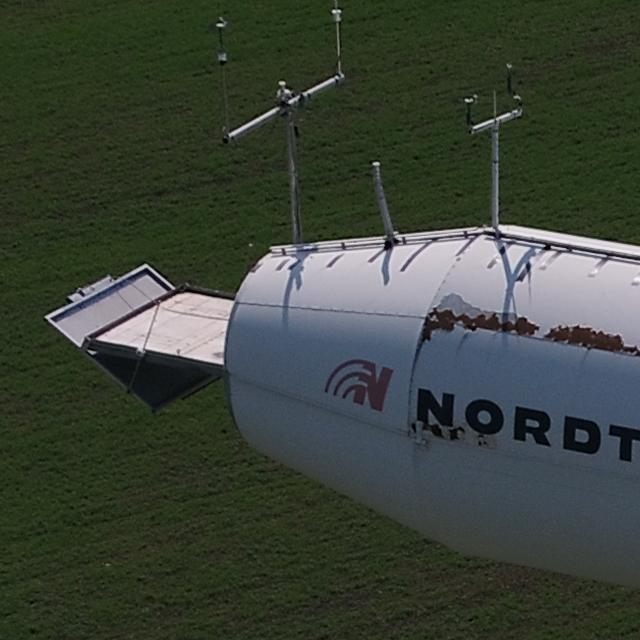damage: (416, 292, 540, 351), (541, 319, 640, 362), (420, 419, 448, 440), (448, 423, 469, 444)
